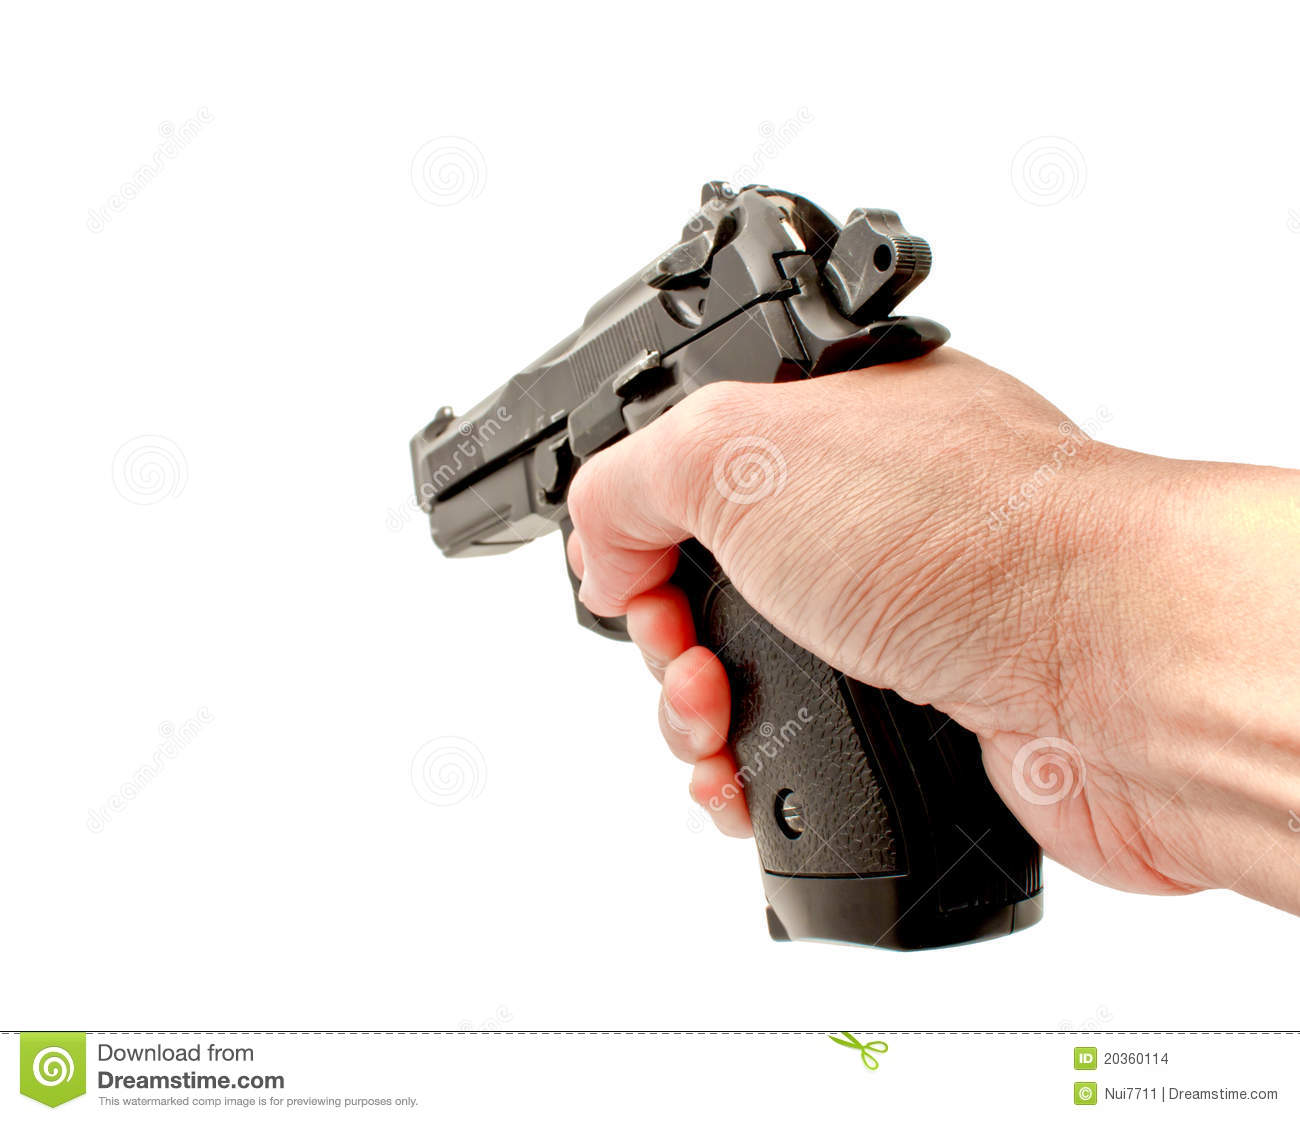pistol: (408, 178, 1046, 954)
